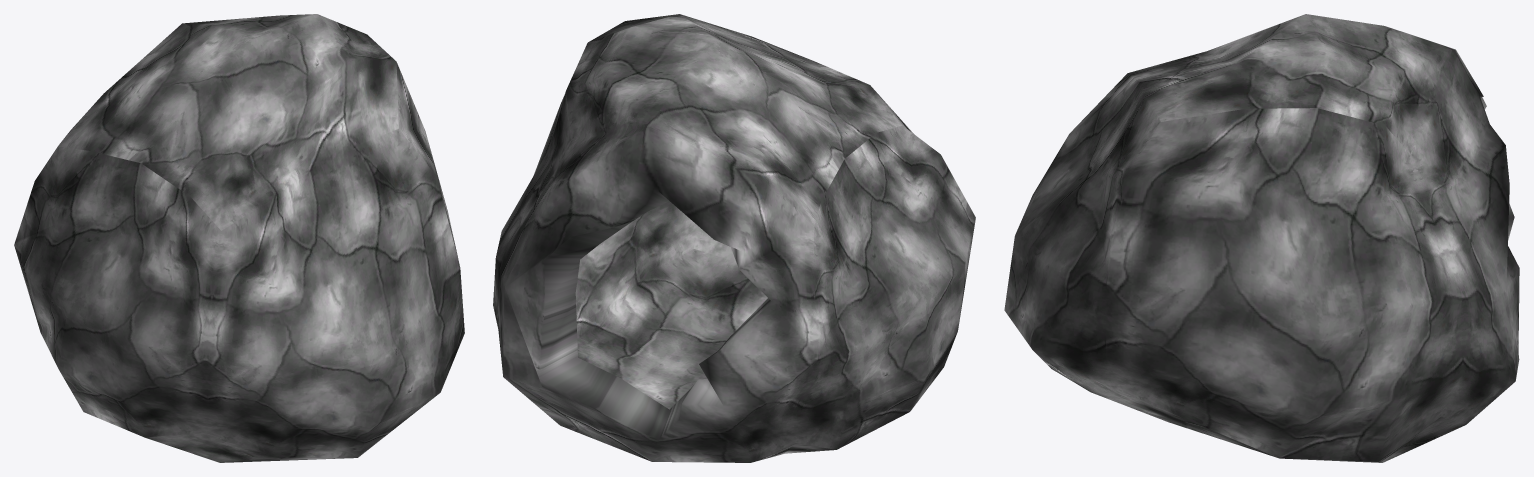
File: INST_TROLLHOLE_BADGERHOUSE.obj
3 renders of one model, left to right at view 1: azimuth 30°, elevation 25°; view 2: azimuth 150°, elevation 25°; view 3: azimuth 270°, elevation 25°, orthographic. The views are drawn at different scales.
Parts seen in each view (by area): view 1: BadgerHouse; view 2: BadgerHouse; view 3: BadgerHouse.
Boxes of the visible parts, x1,y1,x2,y2 form: BadgerHouse: (14, 14, 464, 462); BadgerHouse: (493, 14, 975, 462); BadgerHouse: (1004, 14, 1519, 462).
Bounding box in the file's own units: 129 × 122 × 139.
